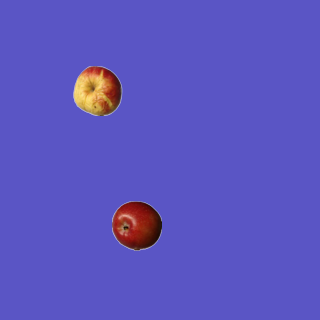Apple Braeburn: (111, 200, 161, 250)
Apple Red Yellow 1: (72, 65, 122, 115)
